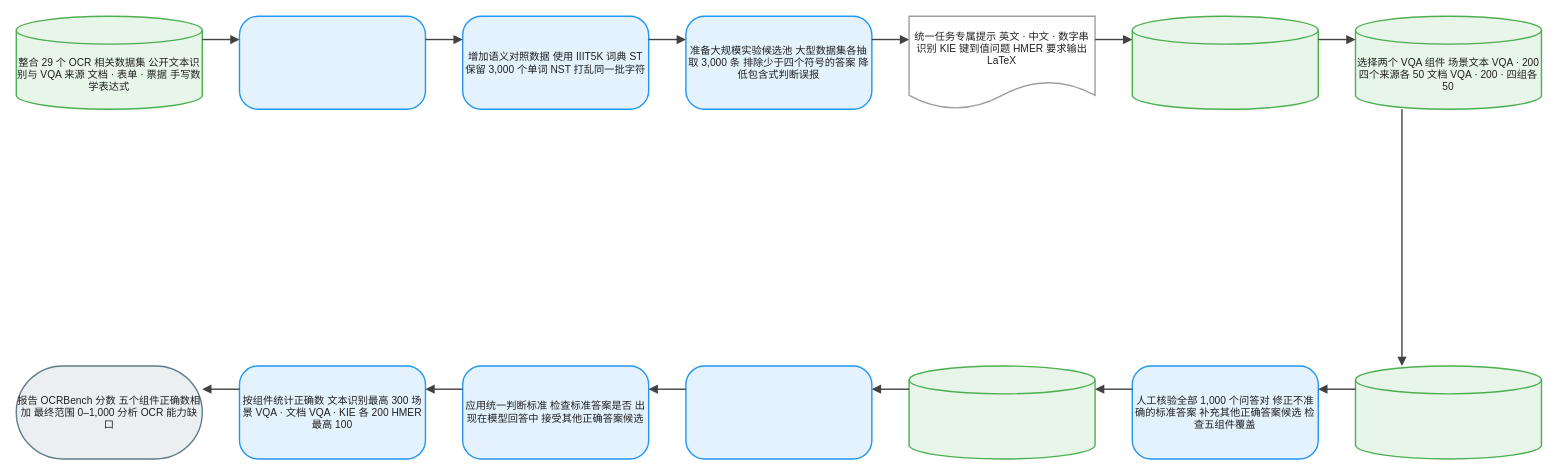
Image size: 1559x476. Some labels were removed from this diagram. The shapes that lost their labels are listed below. From the top down, each one's centre as x and y in pixels, then its label:
At pixel 332 62: "组织五类任务 文本识别 · 场景文本 VQA 文档 VQA · 关键信息提取 手写数学表达式识别".
At pixel 1225 62: "选择文本识别样本 · 300 规则 · 不规则 · 艺术字 手写 · 数字串 非语义文本 · 每类 50".
At pixel 778 412: "执行大模型零样本推理 输入图像与任务提示 KIE 添加直接读图前缀 保留自由文本回答".
At pixel 1001 412: "发布紧凑版 OCRBench 1,000 条图像—问题—答案 五个 OCR 任务组件 全部经人工筛选与校正".
At pixel 1448 412: "选择 KIE 与 HMER 组件 KIE · 200：SROIE 67 FUNSD 66 · POIE 67 HME100K HMER · 100".
